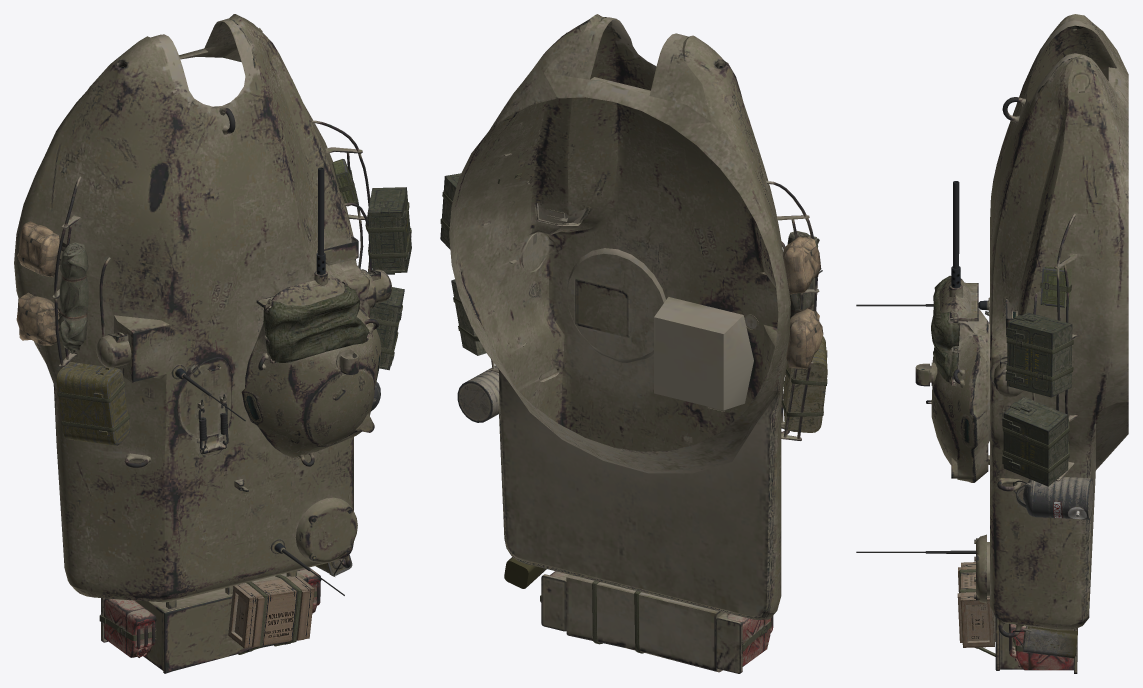
File: Turret_01.glb
3 renders of one model, left to right at view 1: azimuth 30°, elevation 25°; view 2: azimuth 150°, elevation 25°; view 3: azimuth 270°, elevation 25°, orthographic. The views are drawn at different scales.
Parts seen in each view (by area): view 1: set_0_group_0, set_0_group_1; view 2: set_0_group_0, set_0_group_1; view 3: set_0_group_0, set_0_group_1.
Part boxes in pixels (x1,y1,x2,y2): set_0_group_0: (14, 14, 391, 673); set_0_group_1: (16, 159, 411, 657); set_0_group_0: (449, 14, 822, 673); set_0_group_1: (440, 173, 827, 666); set_0_group_0: (856, 14, 1128, 673); set_0_group_1: (957, 266, 1093, 670).
Size of the model in its own units: 2.98 by 4.58 by 1.88.
Materials: 2 (2 with a texture image).
